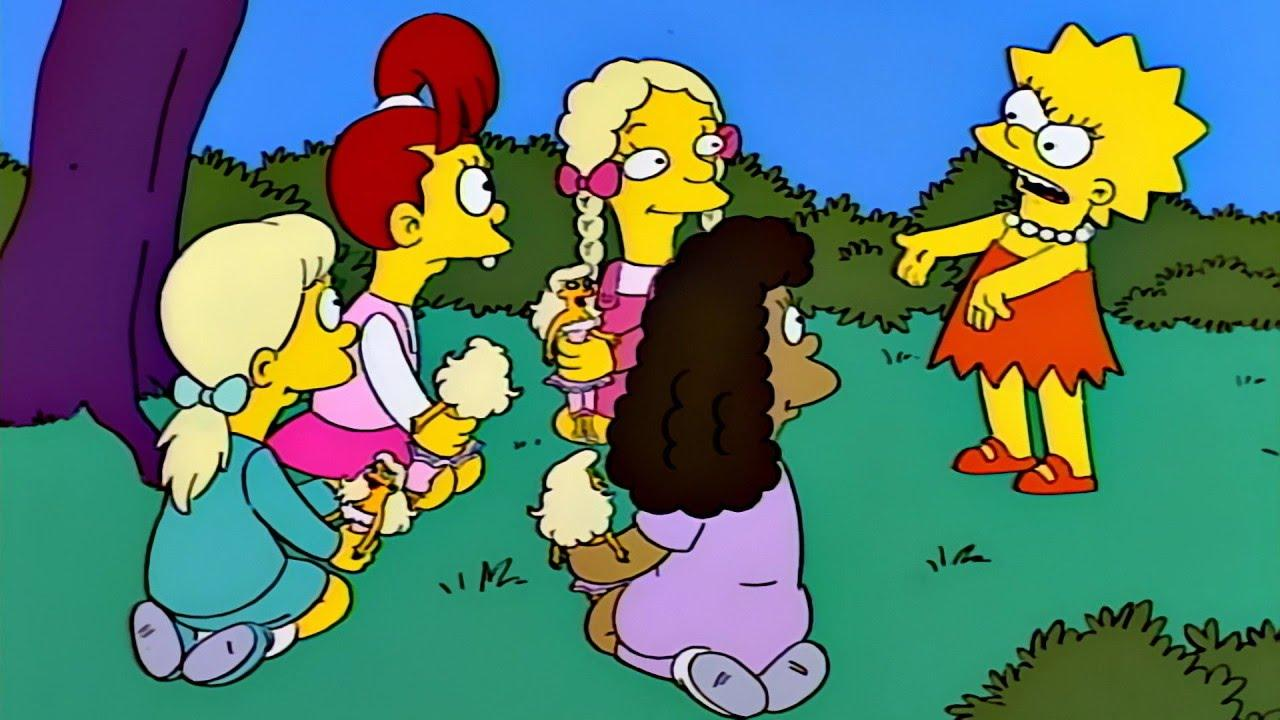Lisa: (913, 15, 1214, 522)
